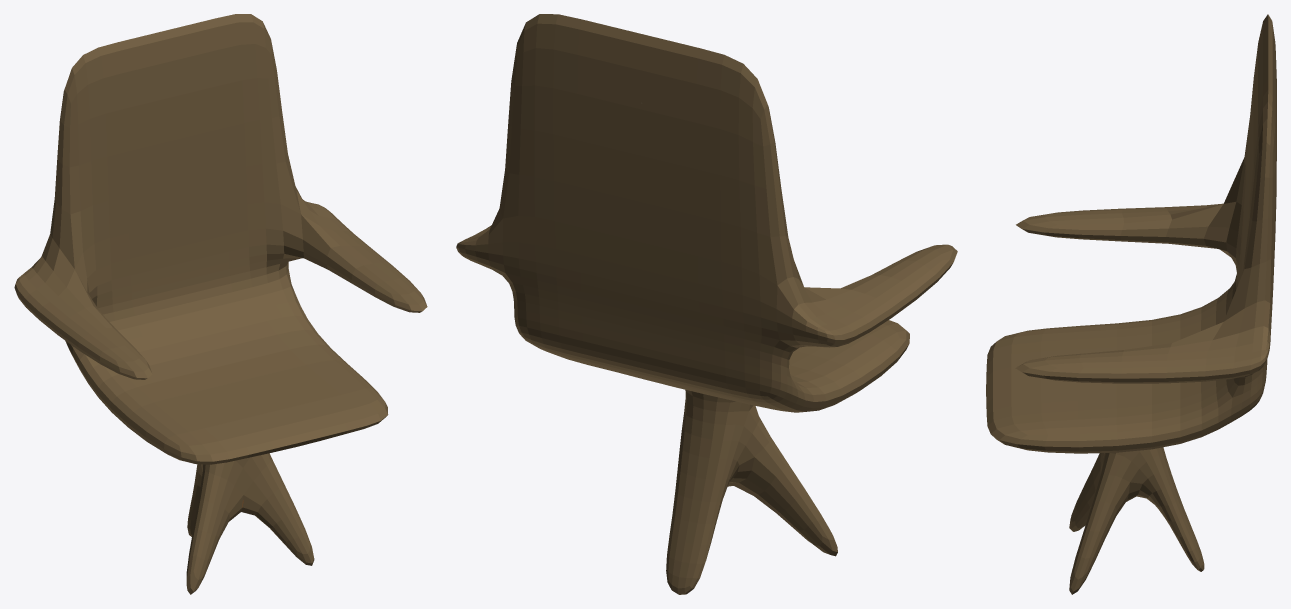
Rendered from DeskChair.fbx.
3 views of the same model, side by side, from view 1: azimuth 30°, elevation 25°; view 2: azimuth 150°, elevation 25°; view 3: azimuth 270°, elevation 25° (orthographic). The views are drawn at different scales.
Visible parts, largest first — view 1: DeskChair; view 2: DeskChair; view 3: DeskChair.
Boxes of the visible parts, <box> form: DeskChair: <box>14,14,427,594</box>; DeskChair: <box>456,14,957,594</box>; DeskChair: <box>986,14,1276,594</box>.
Bounding box in the file's own units: 88.18 × 128 × 65.3.
